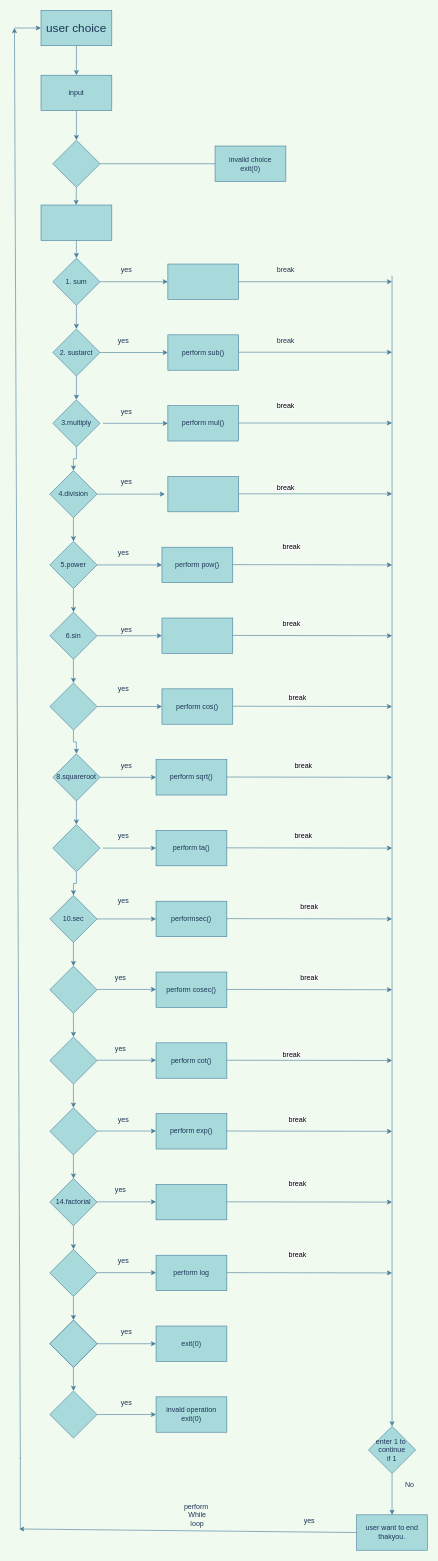
The diagram is 438 pixels wide and 1561 high, and some of its shapes have lost their labels. Each missing label, with the box of its shape:
11.cosec: (49, 966, 97, 1013)
12.cot: (49, 1036, 97, 1084)
13.exponent: (49, 1107, 97, 1155)
15.log: (49, 1249, 97, 1297)
16.close: (49, 1320, 97, 1367)
7.cos: (49, 682, 97, 730)
9.tan: (52, 824, 100, 872)
choice>16: (52, 140, 100, 187)
default: (49, 1390, 97, 1438)
perform div(): (167, 476, 239, 512)
perform factorial(): (155, 1184, 227, 1220)
perform sin(): (161, 617, 233, 653)
perform sum(): (167, 263, 239, 299)
switch number: (40, 204, 112, 240)
